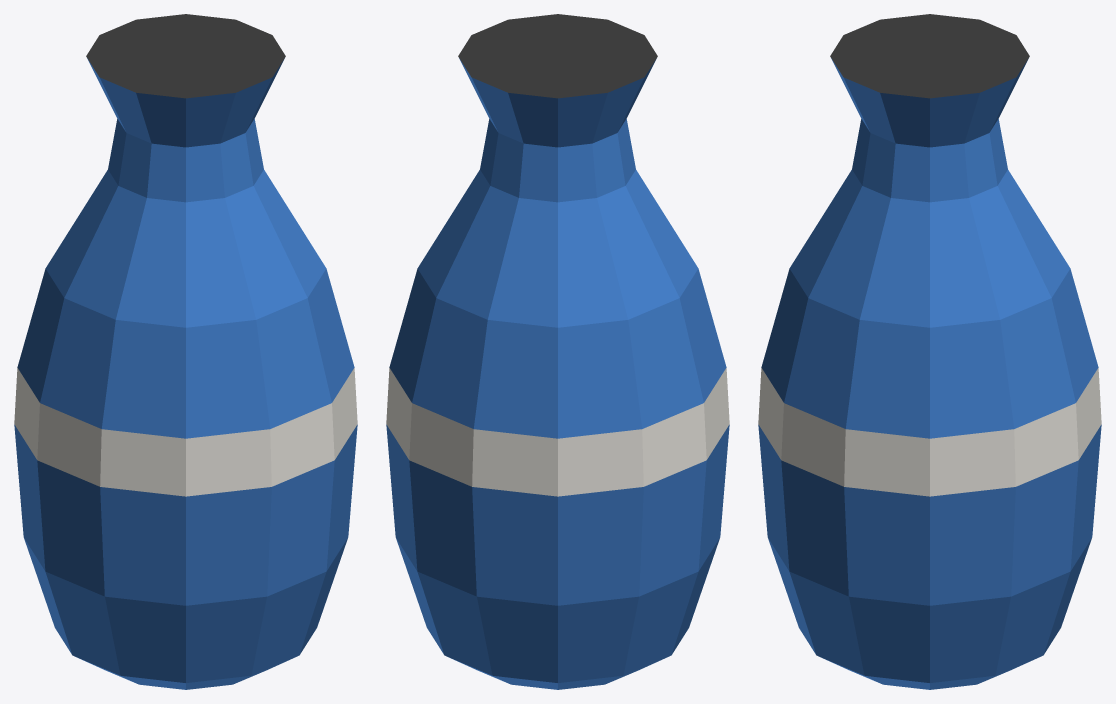
Rendered from FUR_Vase_Frac.fbx.
3 renders of one model, left to right at view 1: azimuth 30°, elevation 25°; view 2: azimuth 150°, elevation 25°; view 3: azimuth 270°, elevation 25°, orthographic.
Parts seen in each view (by area): view 1: FUR_Vase_Frac_2, FUR_Vase_Frac_3, FUR_Vase_Frac_5, FUR_Vase_Frac_4, FUR_Vase_Frac_1; view 2: FUR_Vase_Frac_2, FUR_Vase_Frac_3, FUR_Vase_Frac_4, FUR_Vase_Frac_1; view 3: FUR_Vase_Frac_3, FUR_Vase_Frac_5, FUR_Vase_Frac_1, FUR_Vase_Frac_4, FUR_Vase_Frac_2.
Boxes of the visible parts, <box> form: FUR_Vase_Frac_2: <box>14,170,271,584</box>; FUR_Vase_Frac_3: <box>86,14,323,264</box>; FUR_Vase_Frac_5: <box>187,251,357,578</box>; FUR_Vase_Frac_4: <box>31,482,306,689</box>; FUR_Vase_Frac_1: <box>177,261,340,646</box>; FUR_Vase_Frac_2: <box>439,173,729,615</box>; FUR_Vase_Frac_3: <box>386,14,657,515</box>; FUR_Vase_Frac_4: <box>425,522,721,689</box>; FUR_Vase_Frac_1: <box>386,417,440,637</box>; FUR_Vase_Frac_3: <box>824,14,1095,499</box>; FUR_Vase_Frac_5: <box>758,213,986,614</box>; FUR_Vase_Frac_1: <box>765,455,1085,689</box>; FUR_Vase_Frac_4: <box>758,420,1094,689</box>; FUR_Vase_Frac_2: <box>1084,339,1101,505</box>.
Size of the model in its own units: 1.1 by 2.1 by 1.1.
